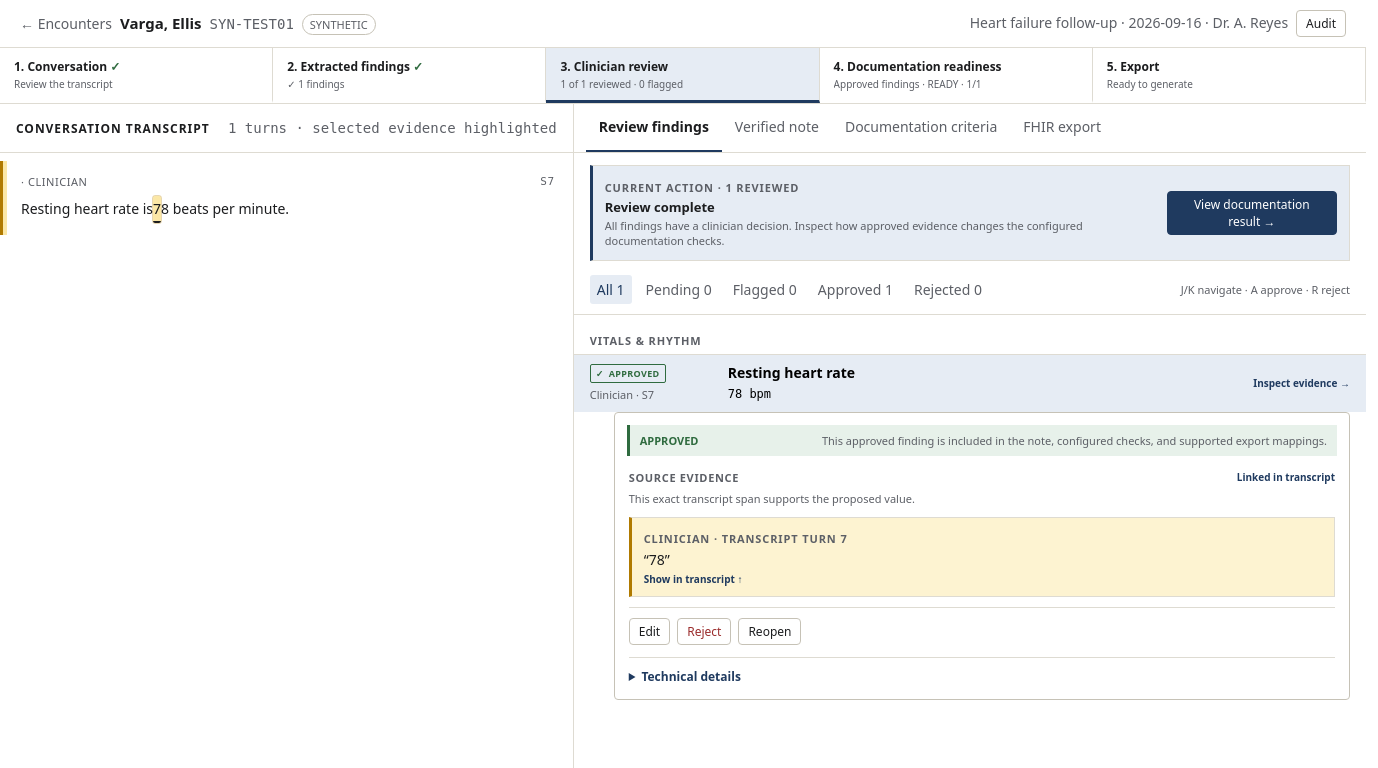
CardioFlow encounter workspace › keeps patient transcript evidence separate from criterion provenance
Click the button "Documentation criteria". click: (921, 128)
box: [832,103,1010,152]
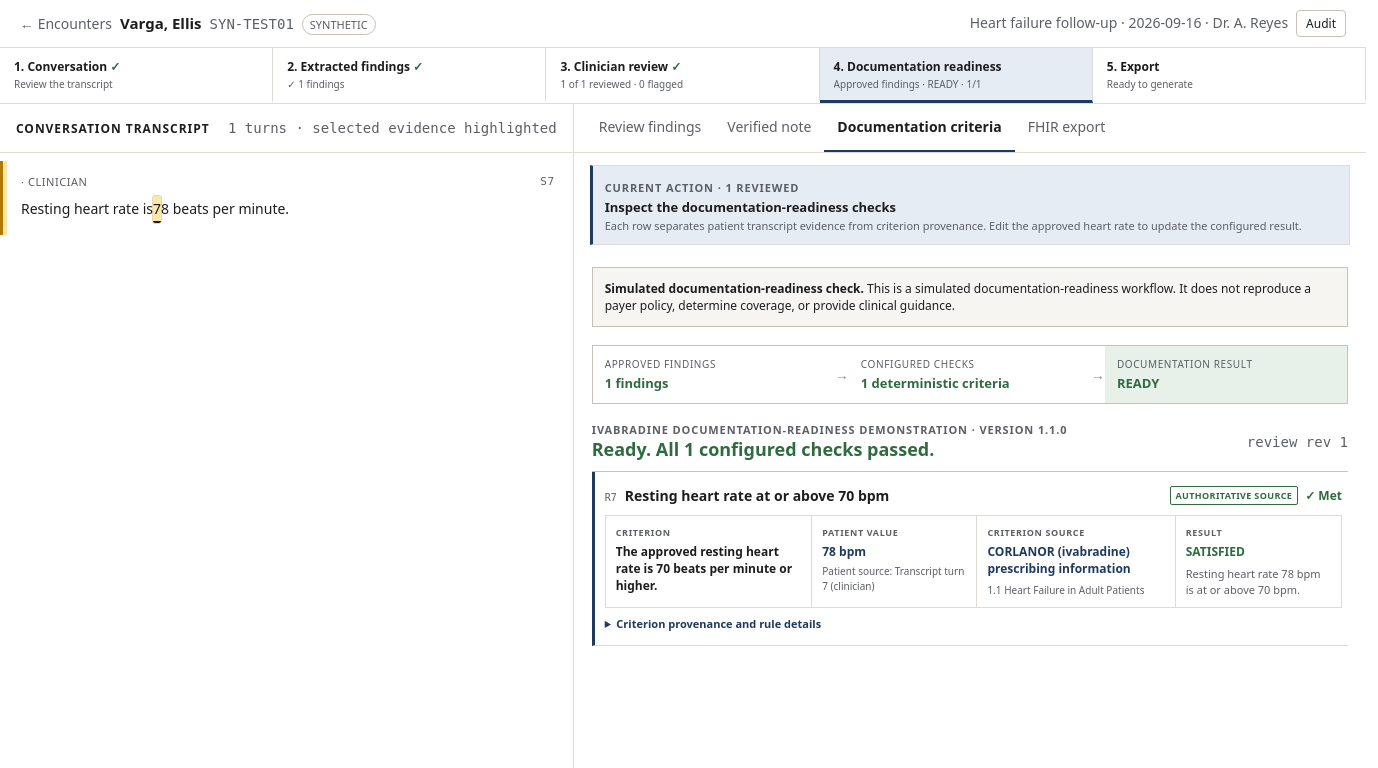
Now the text "Patient value" is shown, box [822,526,898,539]
Now the text "Patient source: Transcript turn 7 (clinician)" is shown, box [822,564,966,593]
Now the text "Criterion source" is shown, box [988,526,1085,539]
